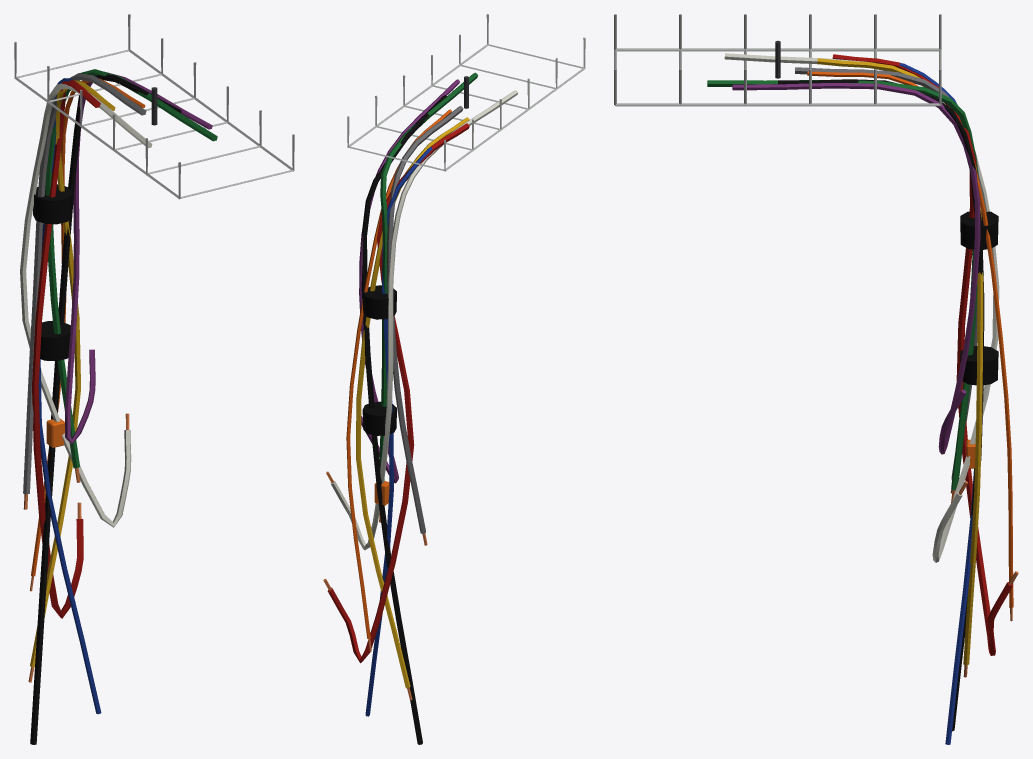
File: cable_hang@1.glb
3 views of the same model, side by side, from view 1: azimuth 30°, elevation 25°; view 2: azimuth 150°, elevation 25°; view 3: azimuth 270°, elevation 25° (orthographic). The views are drawn at different scales.
Parts seen in each view (by area): view 1: teil2, teil8, teil0, teil7, teil10, teil11, teil4, teil6, teil12, teil5, teil9, teil13; view 2: teil8, teil2, teil7, teil0, teil4, teil10, teil9, teil5, teil6, teil12, teil11; view 3: teil0, teil11, teil2, teil4, teil9, teil7, teil6, teil12, teil8, teil5, teil10.
Part boxes in pixels (x1,y1,x2,y2): teil2: (32, 79, 100, 618); teil8: (30, 74, 181, 744); teil0: (14, 14, 294, 199); teil7: (20, 83, 152, 527); teil10: (23, 73, 146, 494); teil11: (65, 71, 212, 444); teil4: (30, 80, 115, 667); teil6: (45, 69, 217, 468); teil12: (33, 184, 72, 361); teil5: (38, 78, 101, 714); teil9: (31, 78, 145, 576); teil13: (46, 418, 64, 447); teil8: (361, 95, 446, 744); teil2: (327, 123, 469, 663); teil7: (330, 90, 517, 550); teil0: (347, 14, 585, 171); teil4: (356, 117, 469, 688); teil10: (387, 106, 463, 533); teil9: (346, 109, 451, 638); teil5: (365, 147, 432, 716); teil6: (379, 72, 477, 480); teil12: (362, 285, 396, 435); teil11: (359, 79, 459, 483); teil0: (614, 14, 941, 106); teil11: (732, 83, 980, 454); teil2: (832, 54, 1013, 655); teil4: (817, 58, 983, 665); teil9: (807, 71, 1013, 608); teil7: (724, 53, 999, 562); teil6: (707, 80, 978, 490); teil12: (960, 211, 998, 385); teil8: (778, 79, 984, 731); teil5: (899, 63, 974, 744); teil10: (795, 67, 981, 479).
Bounding box in the file's own units: 0.225 × 1.2 × 0.623.
